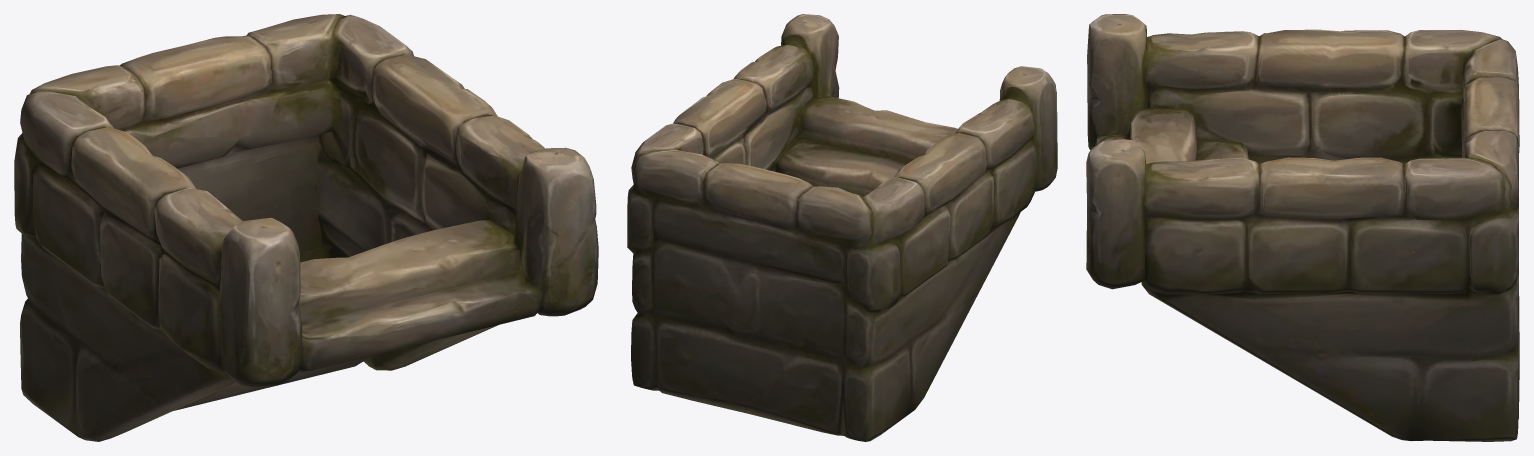
The model's file is stair.glb.
The picture shows the model from 3 angles, left to right: view 1: azimuth 30°, elevation 25°; view 2: azimuth 150°, elevation 25°; view 3: azimuth 270°, elevation 25°; orthographic projection. The views are drawn at different scales.
Bounding box in the file's own units: 1.14 × 1 × 1.37.
1 material, 1 textured.
